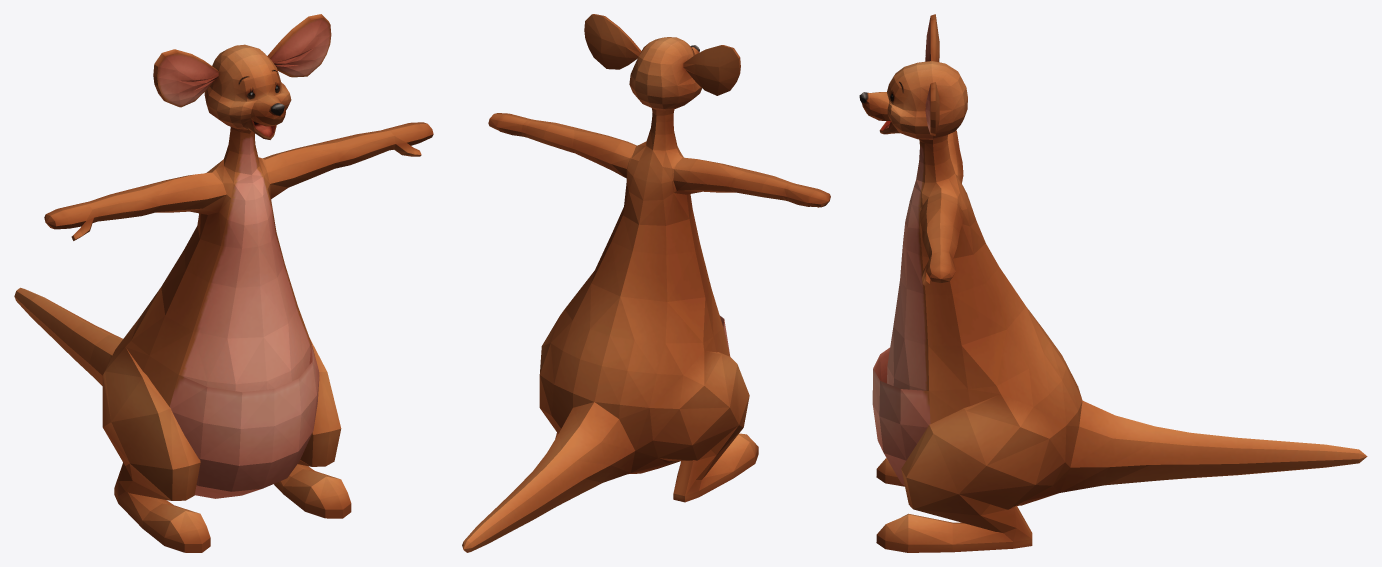
Rendered from Kanga__.obj.
3 renders of one model, left to right at view 1: azimuth 30°, elevation 25°; view 2: azimuth 150°, elevation 25°; view 3: azimuth 270°, elevation 25°, orthographic. The views are drawn at different scales.
Visible parts, largest first — view 1: <SMD_root>.001; view 2: <SMD_root>.001; view 3: <SMD_root>.001.
Boxes of the visible parts, bbox=[...] form: <SMD_root>.001: bbox=[14, 14, 433, 552]; <SMD_root>.001: bbox=[462, 14, 830, 552]; <SMD_root>.001: bbox=[859, 14, 1367, 552].
Bounding box in the file's own units: 2.32 × 2.76 × 2.76.
2 materials, 2 textured.
